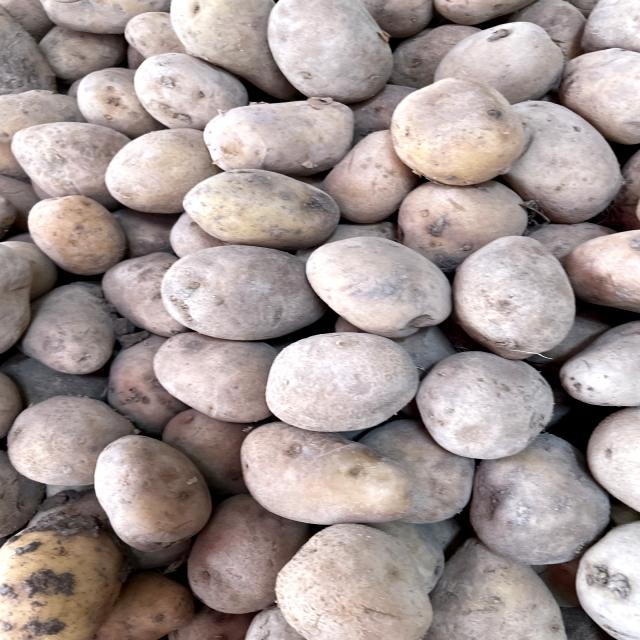potato: (235, 409, 424, 531), (245, 327, 439, 432), (158, 233, 342, 340), (446, 226, 594, 355), (382, 67, 530, 193), (304, 223, 457, 340), (82, 428, 218, 555), (174, 165, 350, 254), (205, 80, 375, 171)
